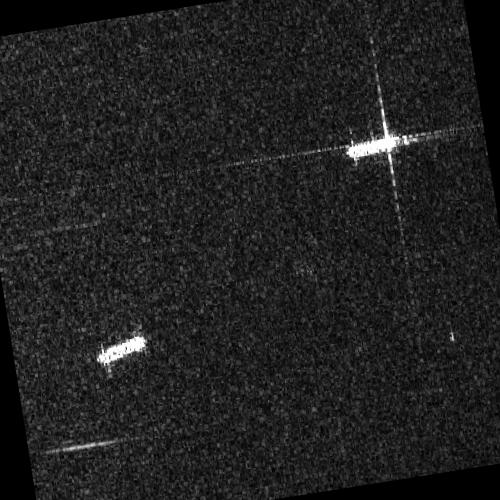ship: (97, 334, 148, 365), (346, 134, 400, 159)
